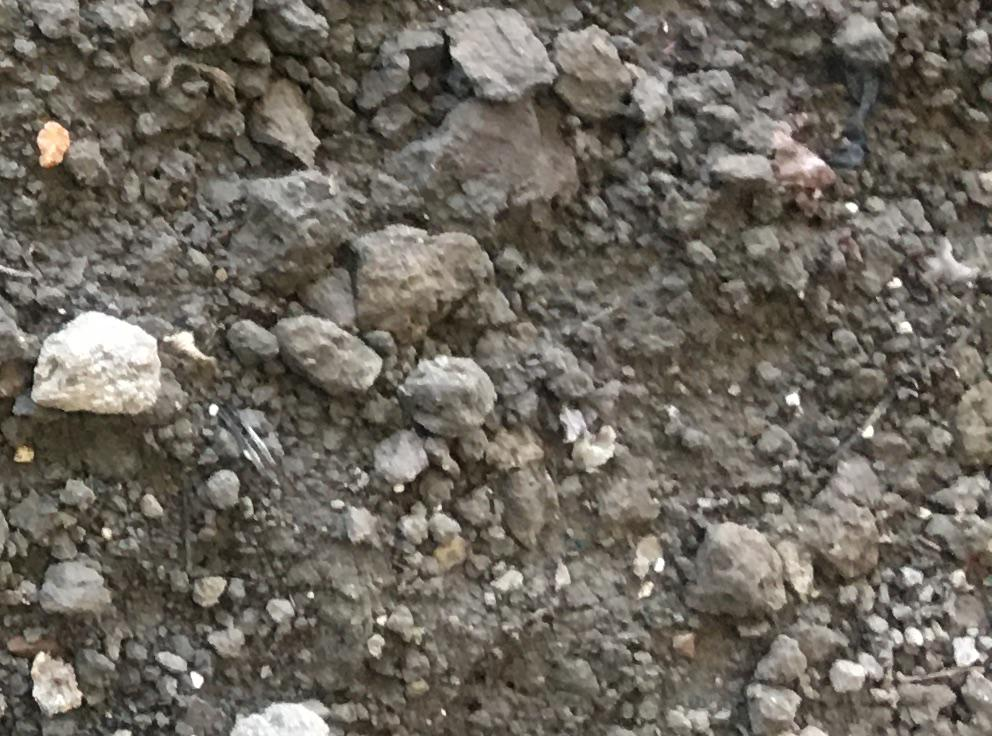block: (369, 94, 579, 223), (348, 218, 487, 349), (28, 306, 162, 422)
